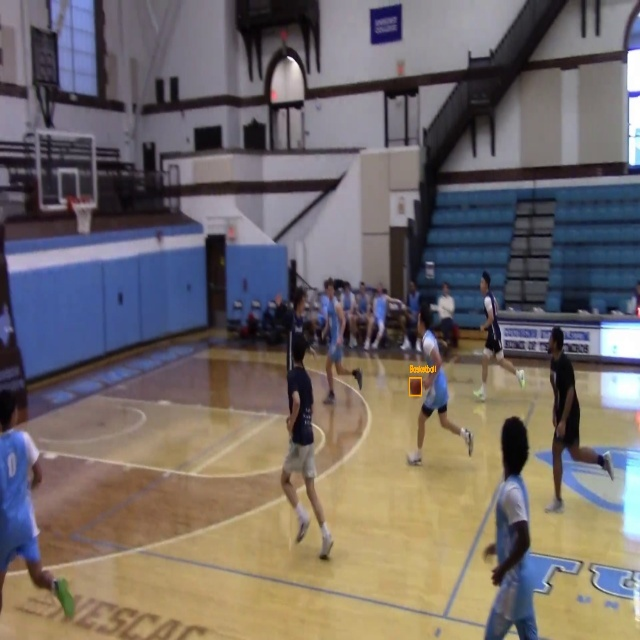Basketball: (410, 378, 422, 396)
